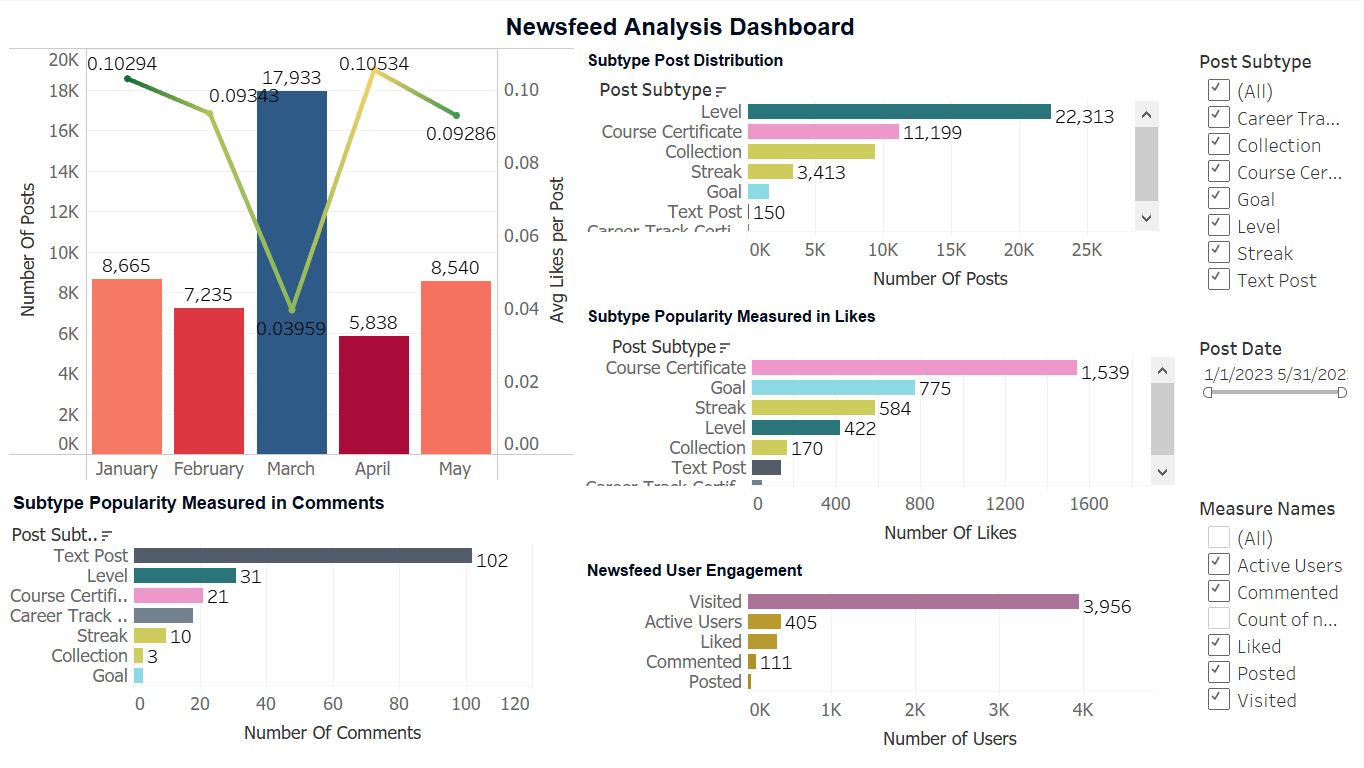

What the dashboard file says about the page in this screenshot:
{"tool":"tableau","page":{"name":"Dashboard 1","canvas":[1366,768],"ordinal":0},"visuals":[{"type":"title","box":[8,8,1350,35]},{"type":"worksheet","title":"Sheet 1","mark":"Bar","rows":["number_of_posts","Calculation_1233986343828078592"],"cols":["post_date"],"box":[8,43,574,441.4]},{"type":"worksheet","title":"Sheet 2","mark":"Automatic","rows":["post_subtype"],"cols":["number_of_posts"],"box":[582,43,616,256.5]},{"type":"filter","title":"Sheet 1","param":"[federated.1u2n35i1xwz2qw16idjyf1kn14rl].[none:post_subtype:nk]","box":[1198,43,160,287]},{"type":"worksheet","title":"Sheet 3","mark":"Automatic","rows":["post_subtype"],"cols":["number_of_likes"],"box":[582,299.5,616,253.5]},{"type":"filter","title":"Sheet 1","param":"[federated.1u2n35i1xwz2qw16idjyf1kn14rl].[none:post_date:qk]","box":[1198,330,160,160]},{"type":"worksheet","title":"Sheet 4","mark":"Automatic","rows":["post_subtype"],"cols":["number_of_comments"],"box":[8,484.4,574,275.6]},{"type":"filter","title":"Sheet 5","param":"[federated.1siwtvy06bbyo01e23a7m0aizfqq].[:Measure Names]","box":[1198,490,160,270]},{"type":"worksheet","title":"Sheet 5","mark":"Automatic","box":[582,553,616,207]}]}

Visuals, with their boxes in screenshot pixels (x1, y1, x2, y2), scaled from the page's 1366x768 canvas onto the 1364x768 screenshot:
title: [8, 8, 1356, 43]
"Sheet 1" worksheet (Bar marks): [8, 43, 581, 484]
"Sheet 2" worksheet: [581, 43, 1196, 300]
"Sheet 1" filter: [1196, 43, 1356, 330]
"Sheet 3" worksheet: [581, 300, 1196, 553]
"Sheet 1" filter: [1196, 330, 1356, 490]
"Sheet 4" worksheet: [8, 484, 581, 760]
"Sheet 5" filter: [1196, 490, 1356, 760]
"Sheet 5" worksheet: [581, 553, 1196, 760]
